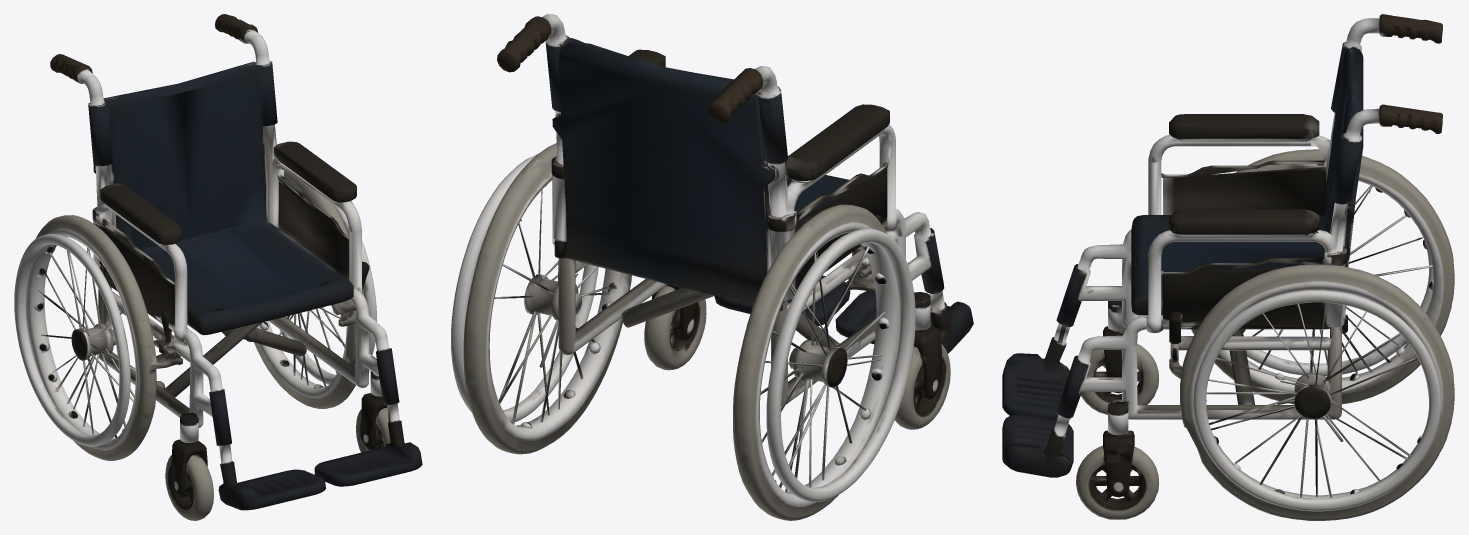
Rendered from a_wheelchair_6ca2b945_v3.glb.
The picture shows the model from 3 angles, left to right: view 1: azimuth 30°, elevation 25°; view 2: azimuth 150°, elevation 25°; view 3: azimuth 270°, elevation 25°; orthographic projection. The views are drawn at different scales.
Visible parts, largest first — view 1: material; view 2: material; view 3: material.
Boxes of the visible parts, x1,y1,x2,y2 form: material: [14, 14, 422, 520]; material: [451, 14, 973, 520]; material: [1002, 14, 1454, 520].
Size of the model in its own units: 1.39 by 1.88 by 1.9.
1 material, 1 textured.
